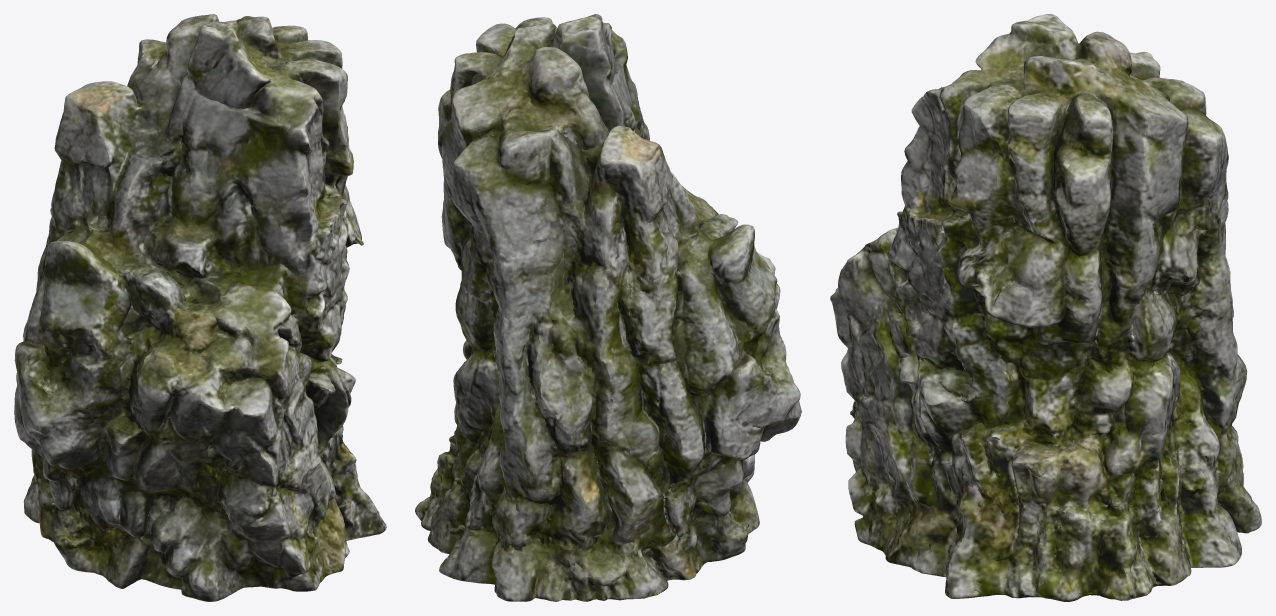
File: cliff-rock.glb
3 views of the same model, side by side, from view 1: azimuth 30°, elevation 25°; view 2: azimuth 150°, elevation 25°; view 3: azimuth 270°, elevation 25° (orthographic). The views are drawn at different scales.
Parts seen in each view (by area): view 1: geometry_0; view 2: geometry_0; view 3: geometry_0.
Boxes of the visible parts, x1,y1,x2,y2 form: geometry_0: (14,14,386,601); geometry_0: (415,14,801,601); geometry_0: (830,14,1261,601).
Bounding box in the file's own units: 0.4173 × 0.6 × 0.4537.
1 material, 1 textured.
